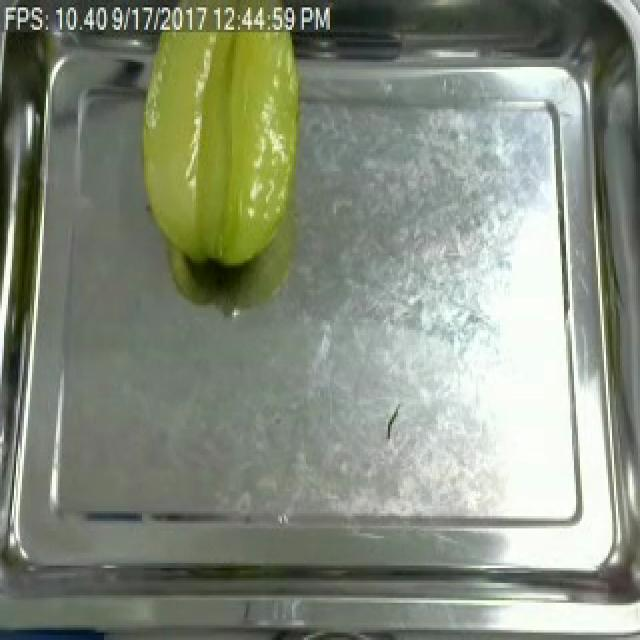fruit: (126, 32, 310, 280)
